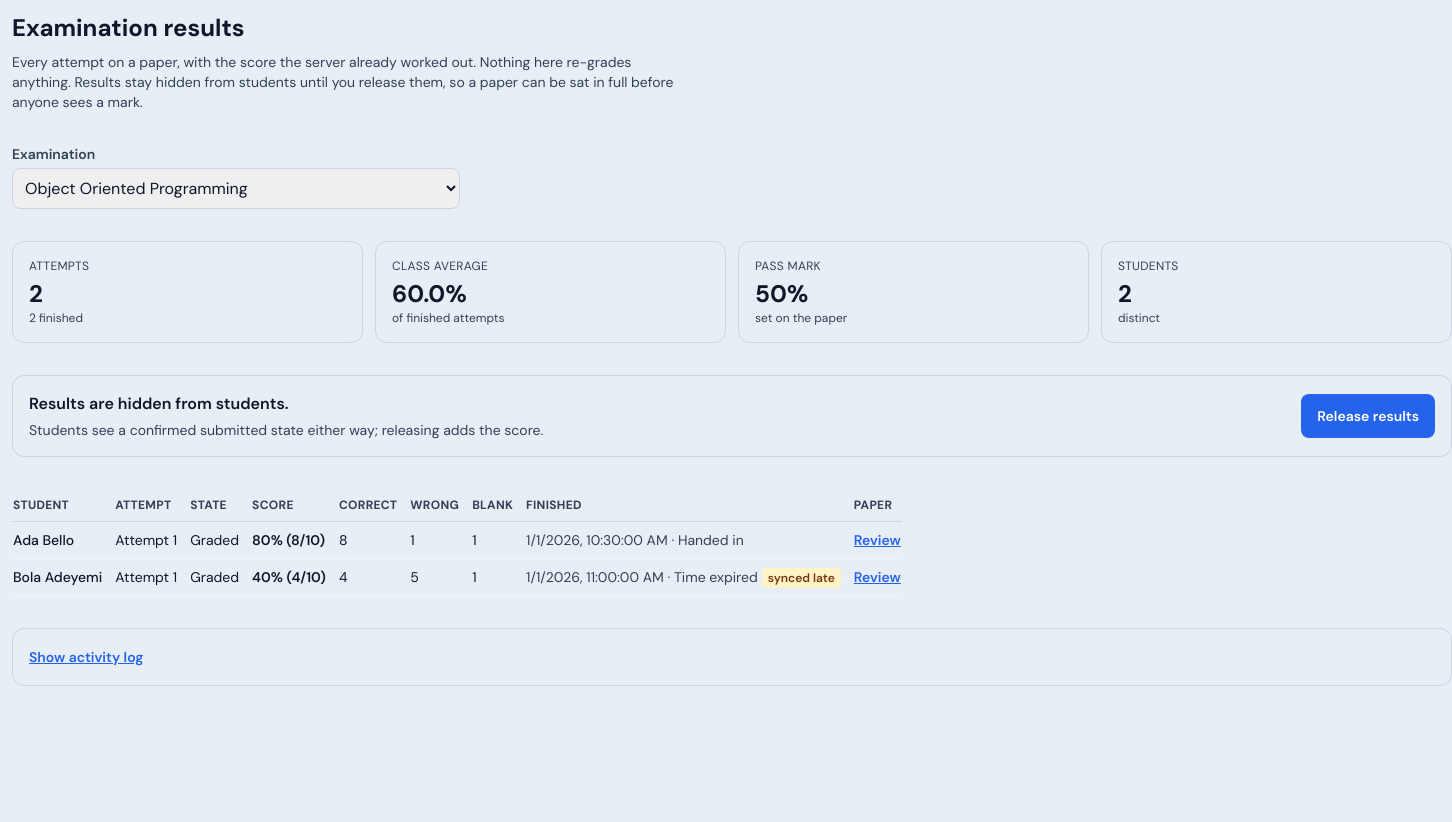
Scenario: AcademyAdminExamResults › explains a failed release instead of pretending it worked
Expected: the text "Ada Bello" is shown, [12,522,114,558]
What coordinates should you click on to do the following:
click the button "Release results"
I would click on:
 (1368, 416)
Its box is [1301,394,1435,438].
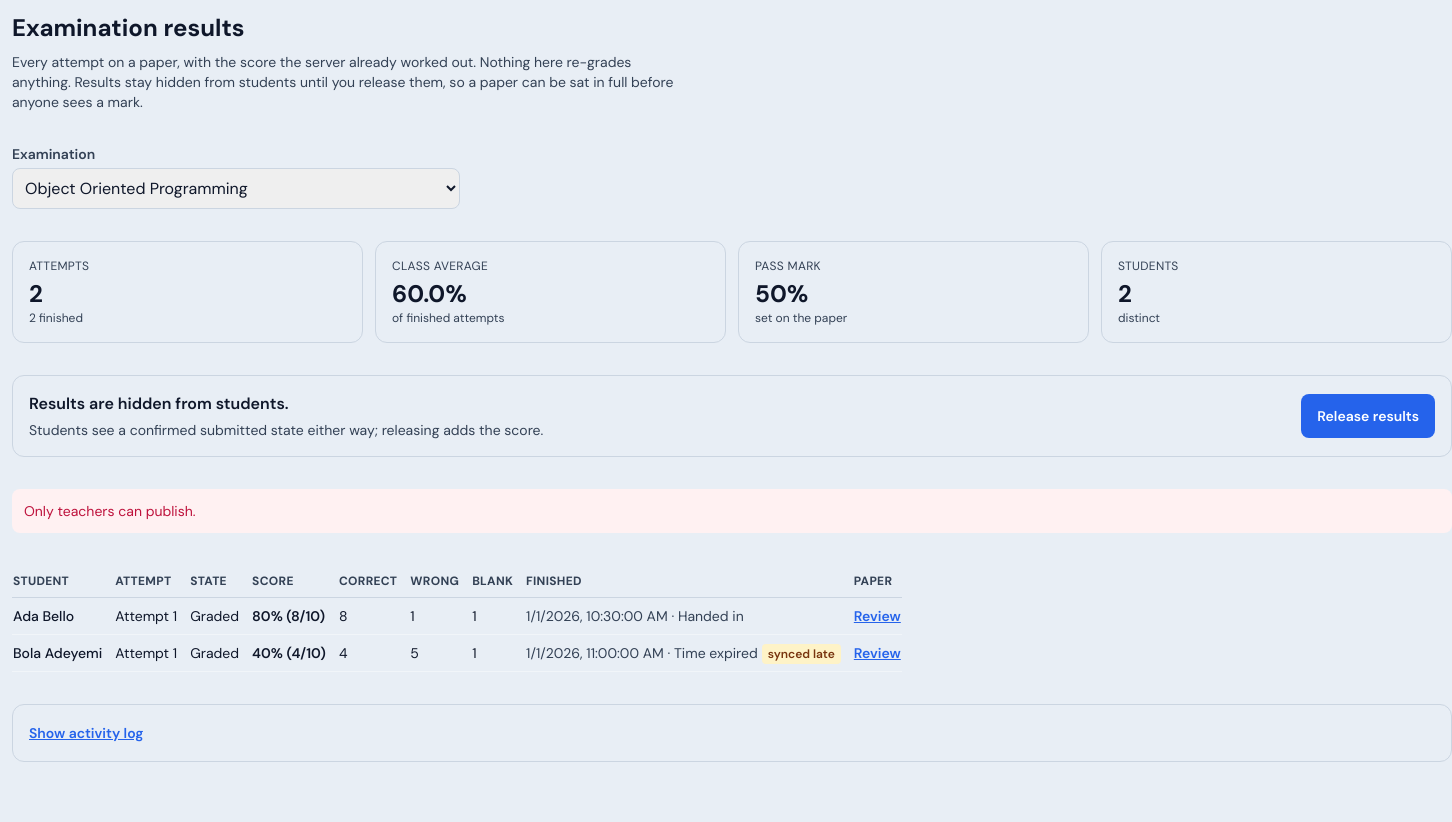
Now the text "Only teachers can publish." is shown, box [12,489,1451,533]
